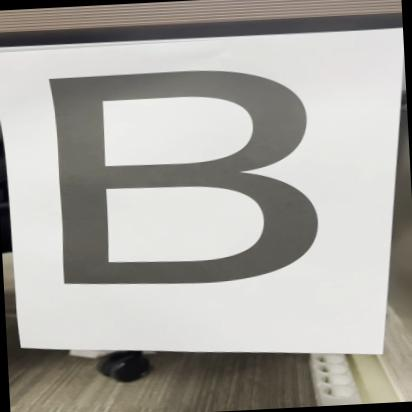seat: (25, 49, 340, 303)
